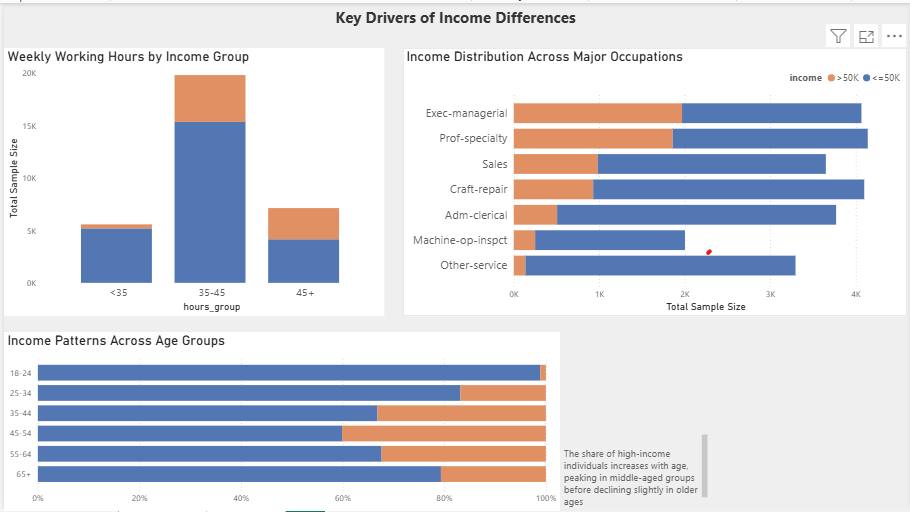

This screenshot's page, from the dashboard's own definition file:
{"tool":"powerbi","page":{"name":"Drivers","canvas":[1280,720],"ordinal":1},"visuals":[{"type":"columnChart","title":"Weekly Working Hours by Income Group","fields":{"Category":["fact_Adult_clean.hours_group"],"Series":["fact_Adult_clean.income"],"Y":["fact_Adult_clean.Total Sample Size"]},"box":[0,63.8,538.6,379.8],"z":0},{"type":"textbox","box":[0,0,1280,42.9],"z":1000},{"type":"barChart","title":"Income Distribution Across Major Occupations","fields":{"Category":["fact_Adult_clean.occupation"],"Series":["fact_Adult_clean.income"],"Y":["fact_Adult_clean.Total Sample Size"]},"box":[565.5,63.8,714.3,379.8],"z":2000},{"type":"hundredPercentStackedBarChart","title":"Income Patterns Across Age Groups","fields":{"Category":["fact_Adult_clean.age_group"],"Y":["fact_Adult_clean.Total Sample Size"],"Series":["fact_Adult_clean.income"]},"box":[0,466.3,788,253.7],"z":3000},{"type":"textbox","box":[788,606.6,214,113.4],"z":4000}]}

Visuals, with their boxes in screenshot pixels (x1, y1, x2, y2), scaled from the page's 1280x720 canvas onto the 910x512 screenshot:
"Weekly Working Hours by Income Group" columnChart: (0, 45, 383, 315)
textbox: (0, 0, 909, 31)
"Income Distribution Across Major Occupations" barChart: (402, 45, 909, 315)
"Income Patterns Across Age Groups" hundredPercentStackedBarChart: (0, 332, 560, 511)
textbox: (560, 431, 712, 511)
